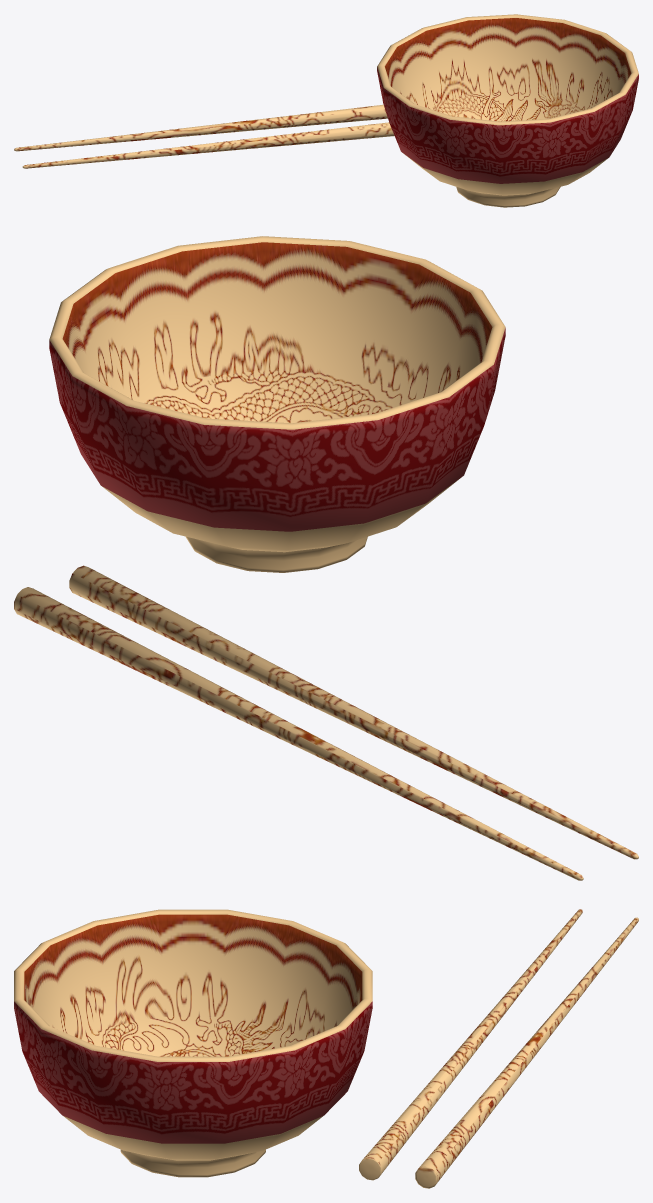
The model's file is NNJ0410006.fbx.
3 views of the same model, one above another, from view 1: azimuth 30°, elevation 25°; view 2: azimuth 150°, elevation 25°; view 3: azimuth 270°, elevation 25° (orthographic). The views are drawn at different scales.
Parts seen in each view (by area): view 1: smNNJ0410006; view 2: smNNJ0410006; view 3: smNNJ0410006.
Boxes of the visible parts, x1,y1,x2,y2 form: smNNJ0410006: (14, 14, 638, 207); smNNJ0410006: (14, 236, 638, 880); smNNJ0410006: (14, 909, 638, 1188).
Size of the model in its own units: 53.83 by 13.38 by 45.68.
1 material, 1 textured.
